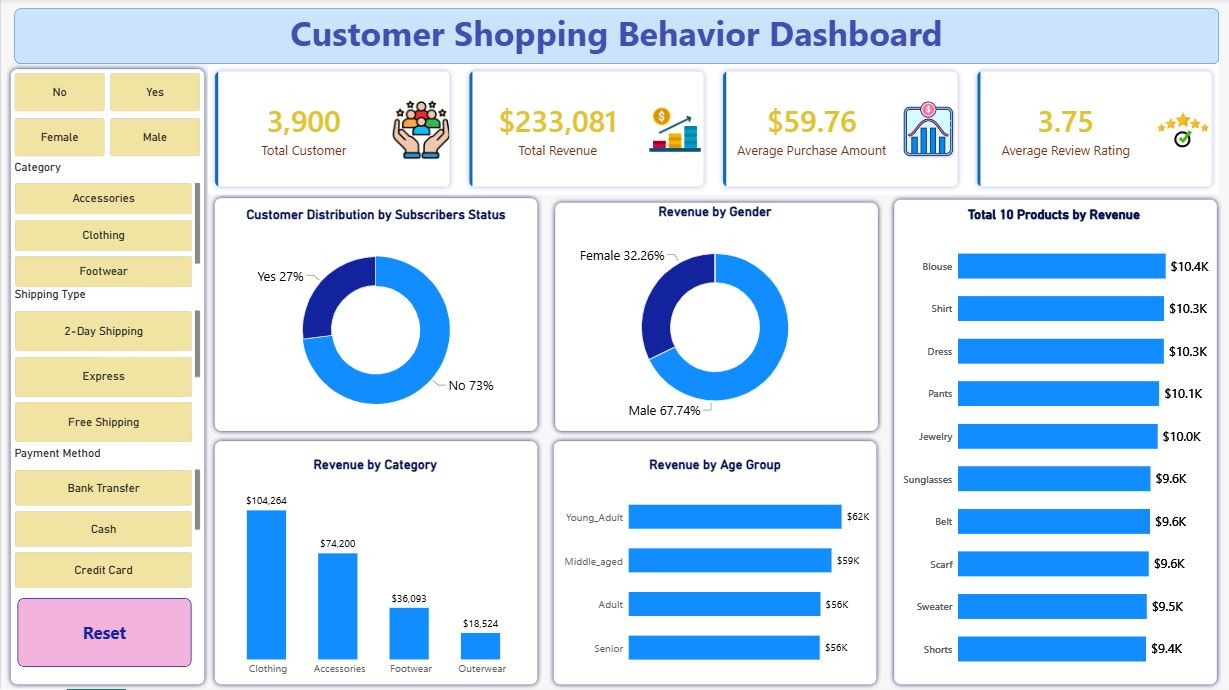

What the dashboard file says about the page in this screenshot:
{"tool":"powerbi","page":{"name":"Page 1","canvas":[1920,1080],"ordinal":0},"visuals":[{"type":"shape","box":[7,103.2,318.8,977.6],"z":0},{"type":"shape","box":[1387.9,307.1,520.5,773.7],"z":1000},{"type":"shape","box":[855.7,684.6,520.5,396.2],"z":2000},{"type":"shape","box":[325.9,684.6,520.5,396.2],"z":3000},{"type":"shape","box":[858.1,311.8,520.5,372.8],"z":4000},{"type":"shape","box":[325.9,304.8,520.5,379.8],"z":5000},{"type":"cardVisual","fields":{"Data":["public customer.Total Customer","public customer.Total Revenue","public customer.Average Purchase Amount","public customer.Average Review Rating"]},"box":[323.5,103.2,1580.2,204],"z":6000},{"type":"textbox","box":[21.1,16.4,1882.6,86.7],"z":7000},{"type":"donutChart","title":"Customer Distribution by Subscribers Status","fields":{"Category":["public customer.subscription_status"],"Y":["public customer.Total Customer"]},"box":[325.9,311.8,520.5,377.5],"z":8000},{"type":"clusteredColumnChart","title":"Revenue by Category","fields":{"Category":["public customer.category"],"Y":["public customer.Total Revenue"]},"box":[323.5,703.3,522.8,377.5],"z":9000},{"type":"barChart","title":"Revenue by Age Group","fields":{"Category":["public customer.age_group"],"Y":["public customer.Total Revenue"]},"box":[858.1,702.5,515.8,377.5],"z":10000},{"type":"donutChart","title":"Revenue by Gender","fields":{"Category":["public customer.gender"],"Y":["public customer.Total Revenue"]},"box":[855.7,307.1,520.5,377.5],"z":11000},{"type":"clusteredBarChart","title":"Total 10 Products by Revenue","fields":{"Category":["public customer.item_purchased"],"Y":["public customer.Total Revenue"]},"box":[1387.9,311.8,515.8,769],"z":12000},{"type":"clusteredBarChart","title":"Total 10 Products by Revenue","fields":{"Category":["public customer.item_purchased"],"Y":["public customer.Total Revenue"]},"box":[1387.9,311,515.8,769],"z":13000},{"type":"advancedSlicerVisual","fields":{"Values":["public customer.subscription_status"]},"box":[21.1,117.2,290.7,61],"z":14000},{"type":"advancedSlicerVisual","fields":{"Values":["public customer.gender"]},"box":[21.1,187.6,290.7,61],"z":15000},{"type":"advancedSlicerVisual","title":"Category","fields":{"Values":["public customer.category"]},"box":[21.1,253.2,290.7,201.6],"z":16000},{"type":"advancedSlicerVisual","title":"Shipping Type","fields":{"Values":["public customer.shipping_type"]},"box":[21.1,452.5,290.7,241.5],"z":17000},{"type":"advancedSlicerVisual","title":"Payment Method","fields":{"Values":["public customer.payment_method"]},"box":[21.1,701,290.7,222.7],"z":18000},{"type":"actionButton","box":[25.8,937.8,272,107.8],"z":18001}]}

Visuals, with their boxes in screenshot pixels (x1, y1, x2, y2), scaled from the page's 1920x1080 canvas onto the 1229x690 screenshot:
shape: left=4, top=66, right=209, bottom=689
shape: left=888, top=196, right=1222, bottom=689
shape: left=548, top=437, right=881, bottom=689
shape: left=209, top=437, right=542, bottom=689
shape: left=549, top=199, right=882, bottom=437
shape: left=209, top=195, right=542, bottom=437
cardVisual - public customer.Total Customer x public customer.Total Revenue: left=207, top=66, right=1219, bottom=196
textbox: left=14, top=10, right=1219, bottom=66
"Customer Distribution by Subscribers Status" donutChart: left=209, top=199, right=542, bottom=440
"Revenue by Category" clusteredColumnChart: left=207, top=449, right=542, bottom=689
"Revenue by Age Group" barChart: left=549, top=449, right=879, bottom=689
"Revenue by Gender" donutChart: left=548, top=196, right=881, bottom=437
"Total 10 Products by Revenue" clusteredBarChart: left=888, top=199, right=1219, bottom=689
"Total 10 Products by Revenue" clusteredBarChart: left=888, top=199, right=1219, bottom=689
advancedSlicerVisual - public customer.subscription_status: left=14, top=75, right=200, bottom=114
advancedSlicerVisual - public customer.gender: left=14, top=120, right=200, bottom=159
"Category" advancedSlicerVisual: left=14, top=162, right=200, bottom=291
"Shipping Type" advancedSlicerVisual: left=14, top=289, right=200, bottom=443
"Payment Method" advancedSlicerVisual: left=14, top=448, right=200, bottom=590
actionButton: left=17, top=599, right=191, bottom=668
